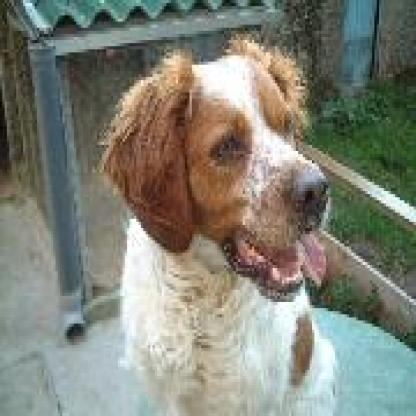Brittany_spaniel: (93, 31, 338, 410)
